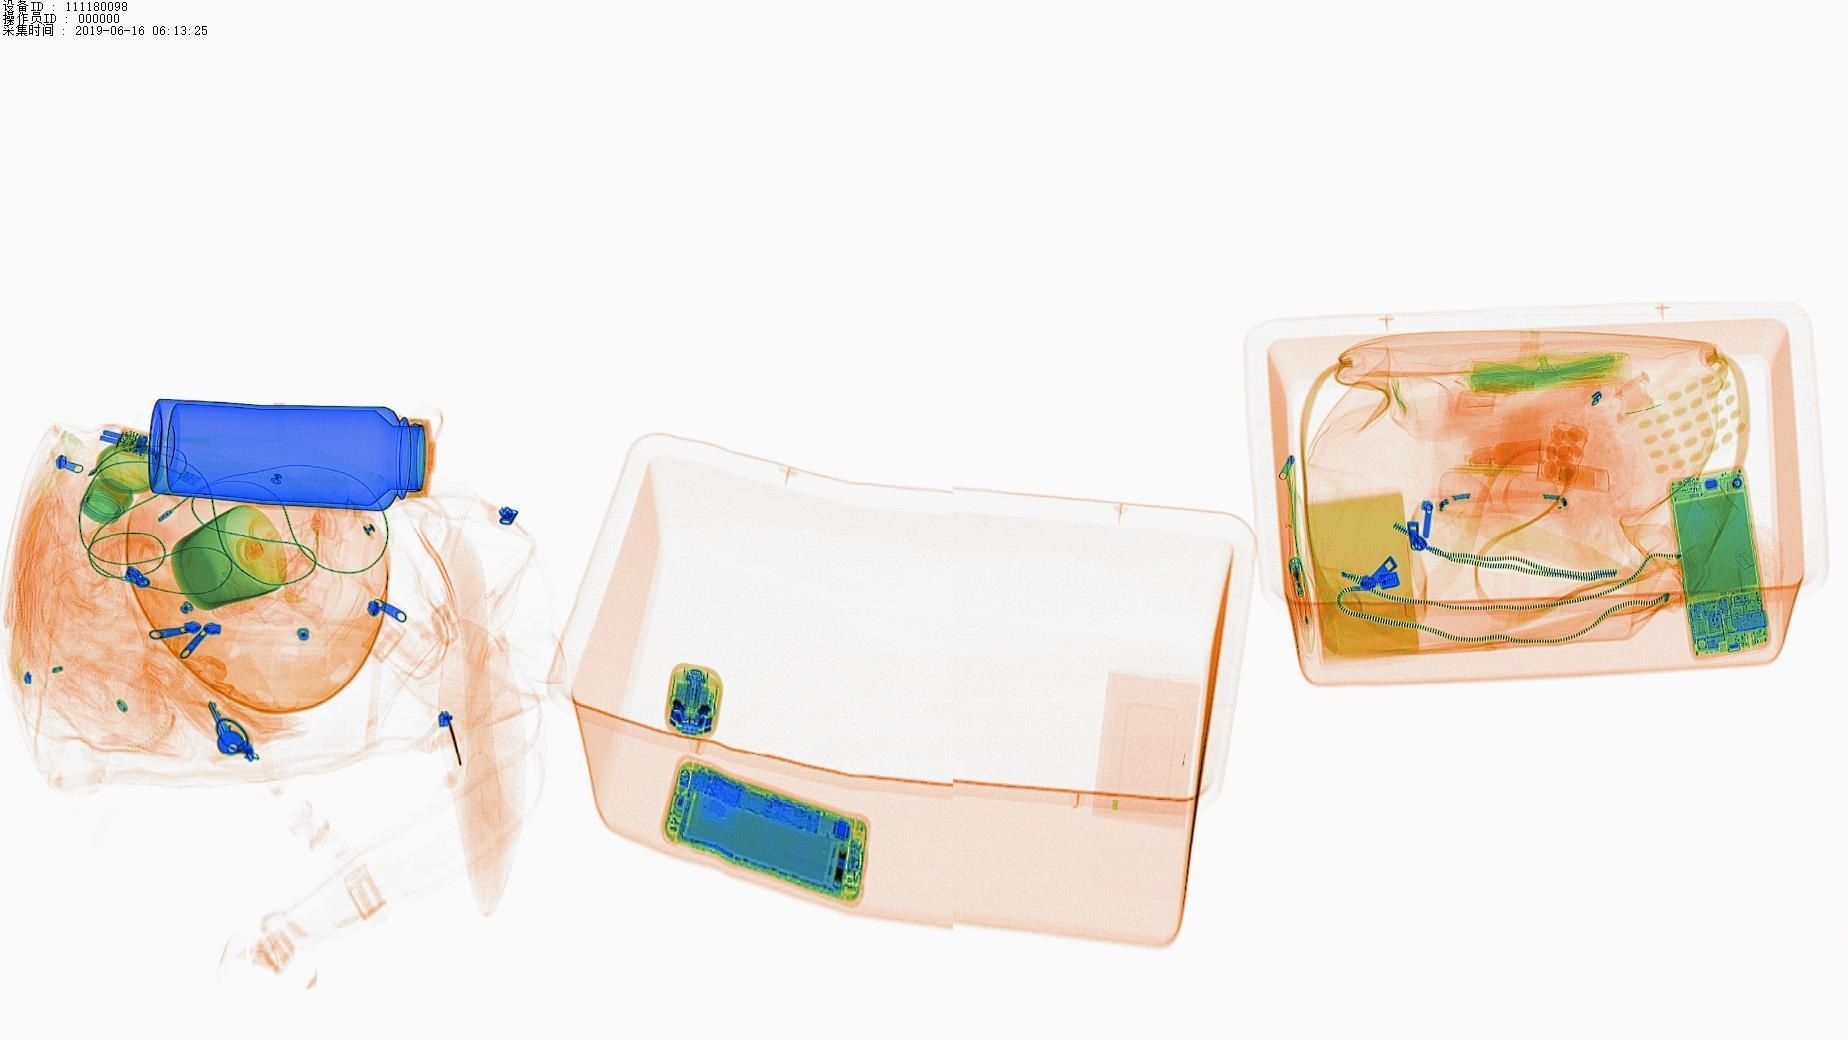NonmetallicFire: (1279, 545, 1325, 663)
